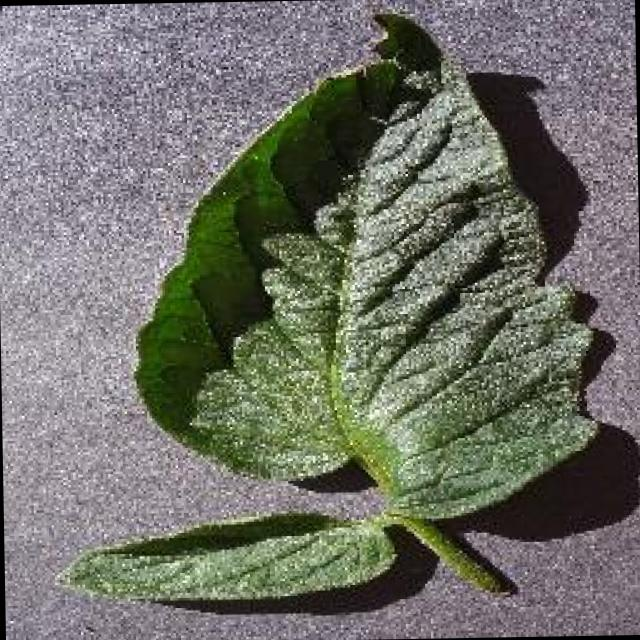Tomato_Healthy: (93, 23, 602, 507)
